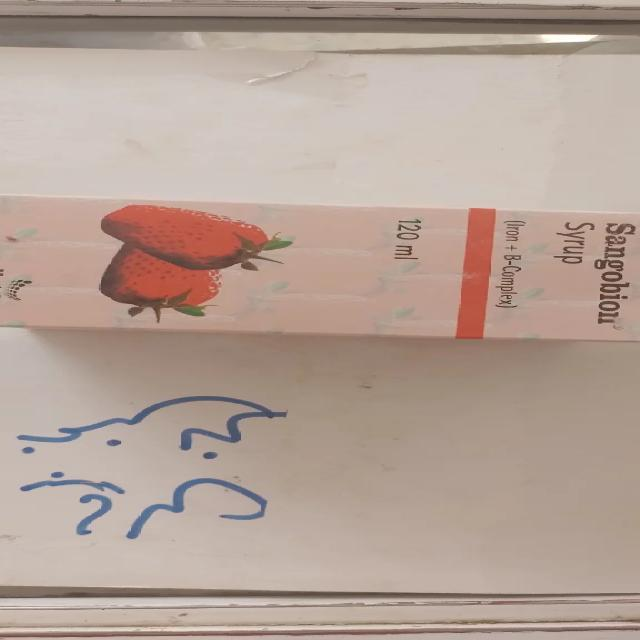drug-name: (596, 215, 634, 328)
